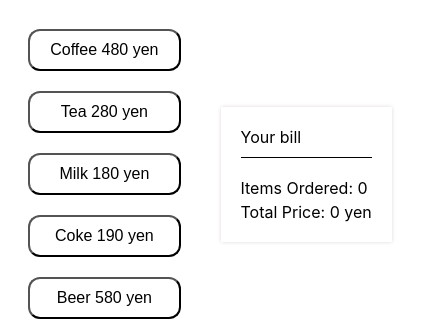
Test case: ordering each drink exactly once updates count and price
Click the button "Coffee 480 yen" at (104,50), box [28,29,180,71]
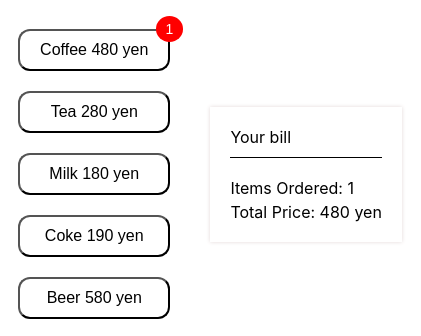
Click the button "Tea 280 yen" at (94,112), box [18,91,170,133]
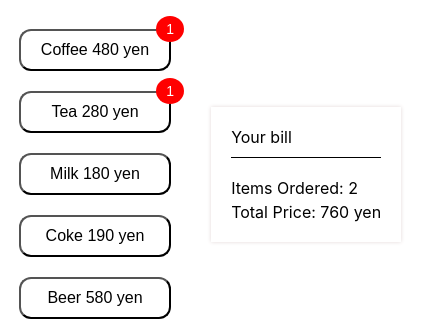
Click the button "Milk 180 yen" at (95,174), box [19,153,171,195]
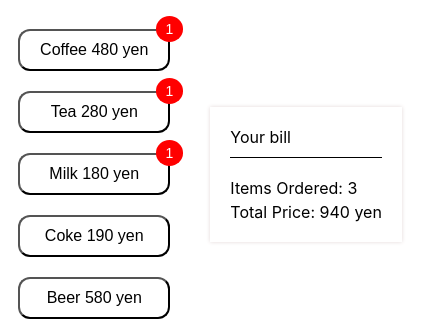
Click the button "Coke 190 yen" at (94,236), box [18,215,170,257]
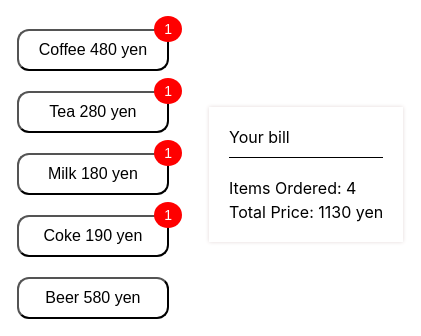
Click the button "Beer 580 yen" at (93,298), box [17,277,169,319]
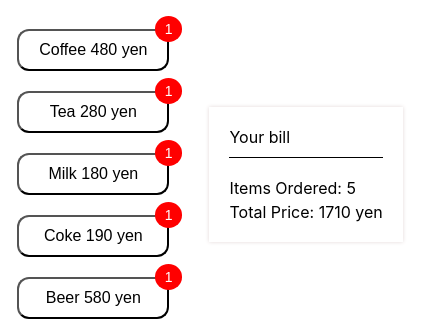
Expected: the text with test id "coffee-count" reads "1", [165,21,172,37]
Expected: the text "Items Ordered: 5" is shown, [230,178,356,198]
Expected: the text "Total Price: 1710 yen" is shown, [230,202,383,222]
